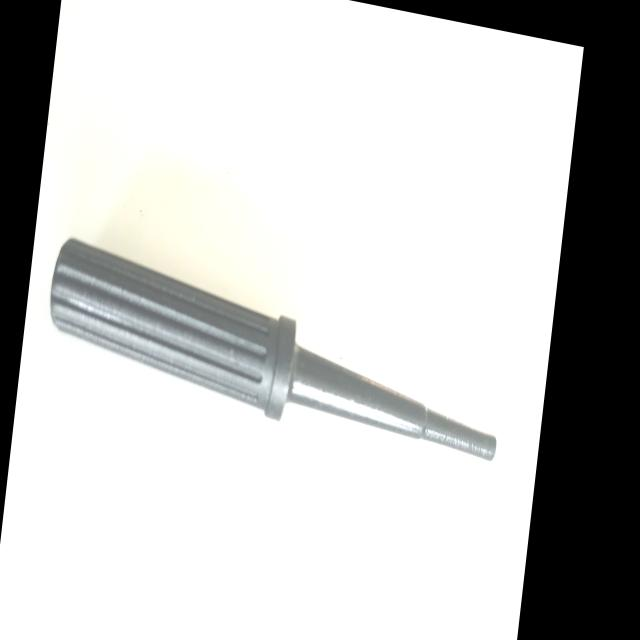Screw Driver: (30, 220, 517, 490)
